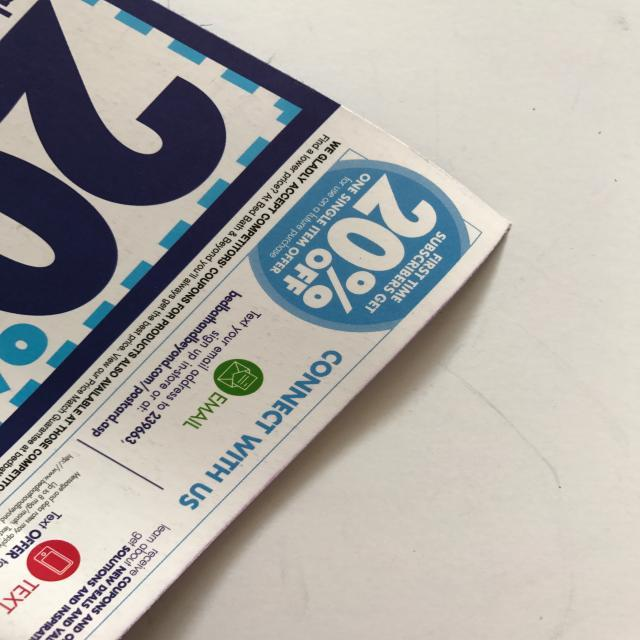paper: (2, 1, 514, 640)
